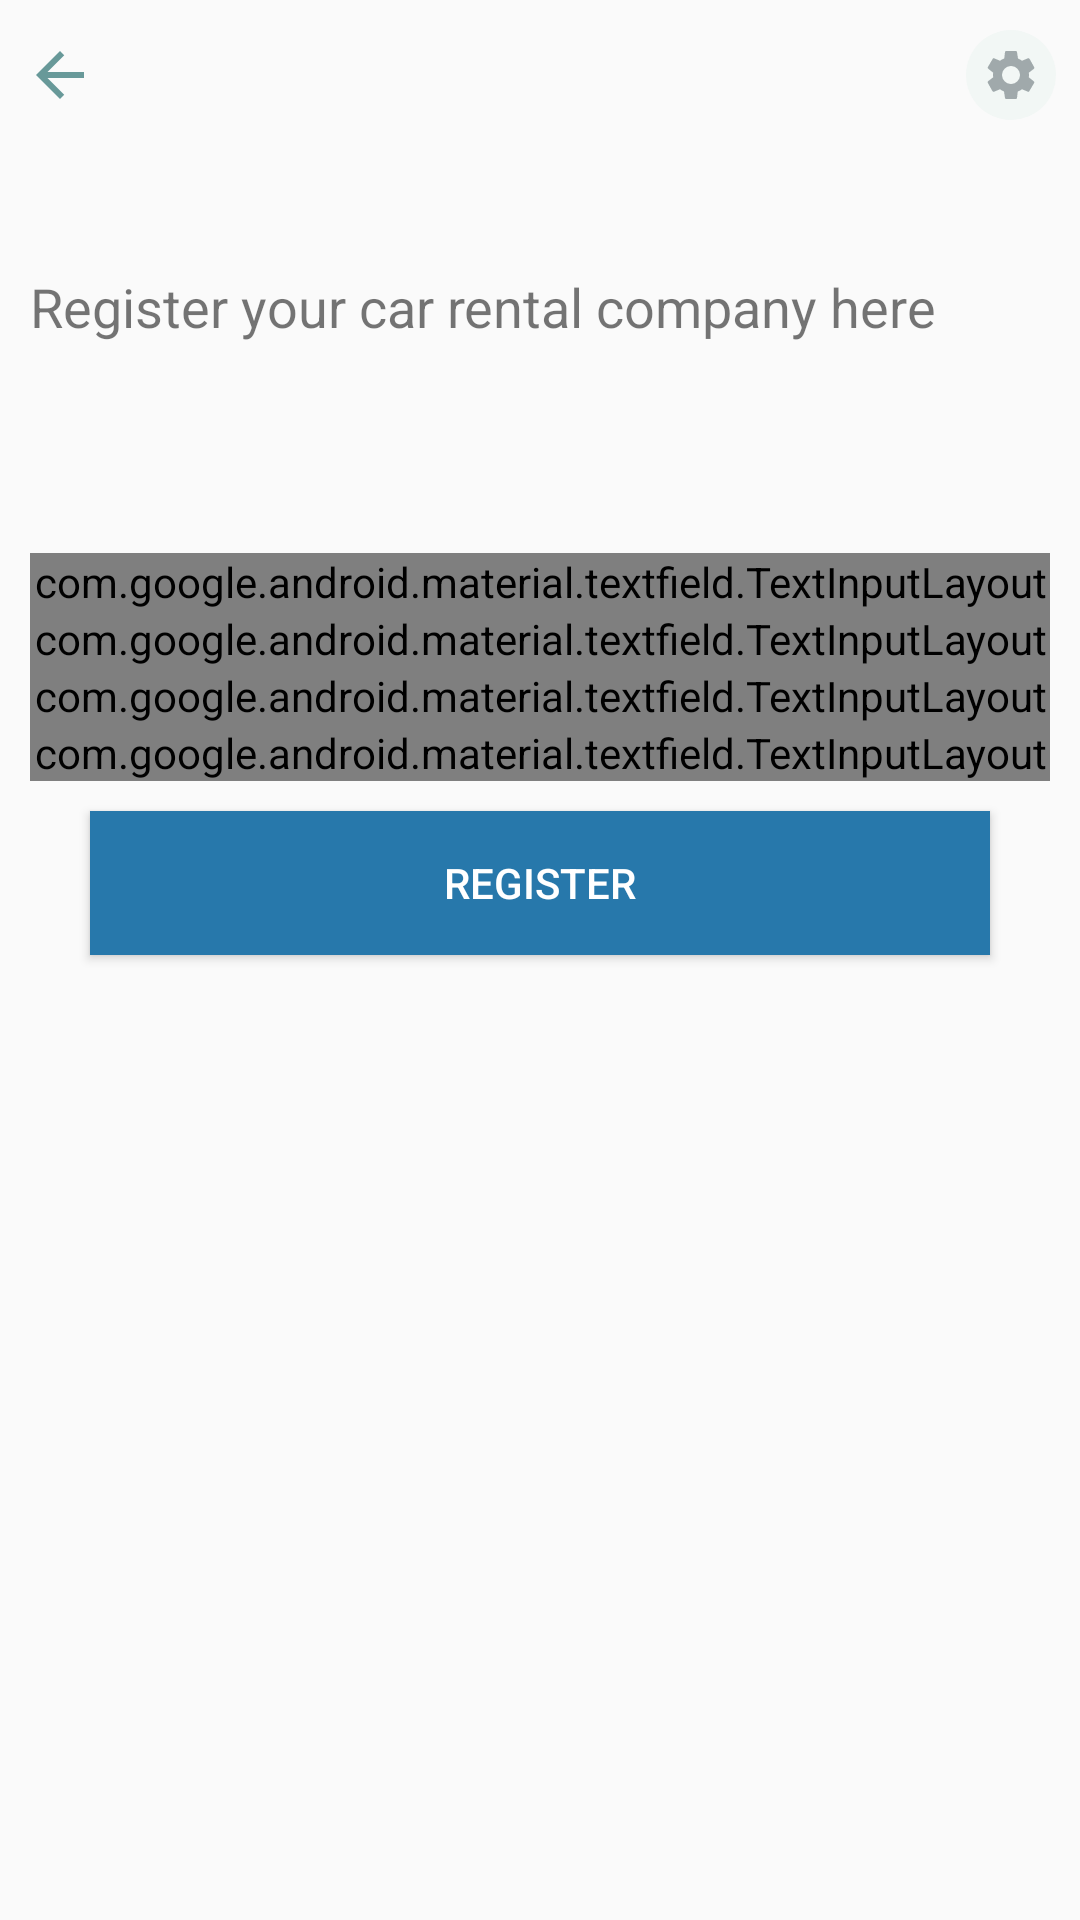

Named icons in this screenshot (1080px×1920px) and their centers, (x,y):
settings: (1011,75)
